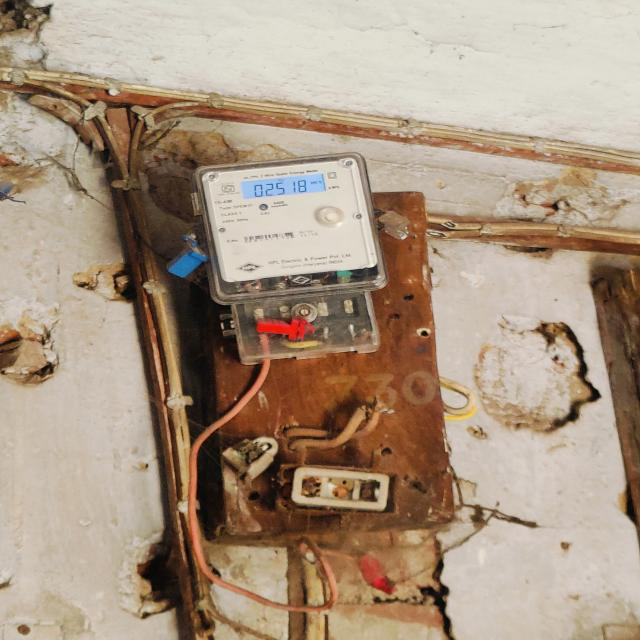display: (235, 173, 325, 200)
